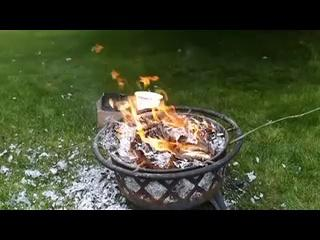Fire: (110, 68, 208, 153)
